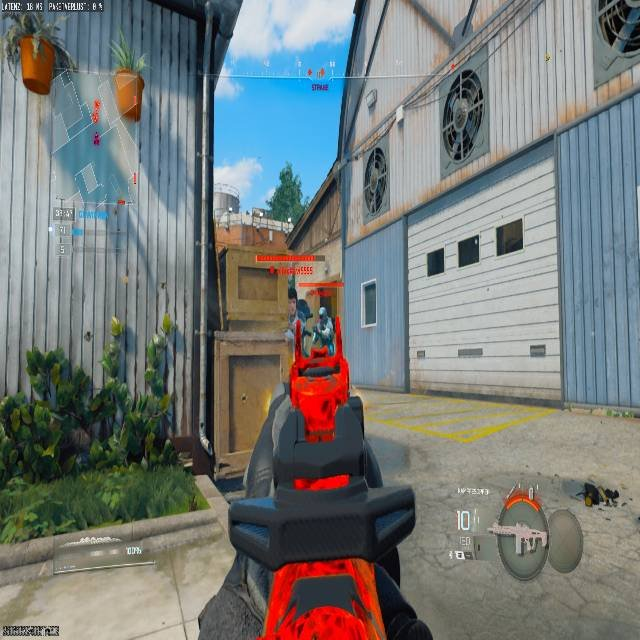head: (318, 306, 328, 320)
player: (287, 297, 343, 424), (296, 293, 335, 355), (312, 304, 333, 349), (287, 286, 311, 321)
